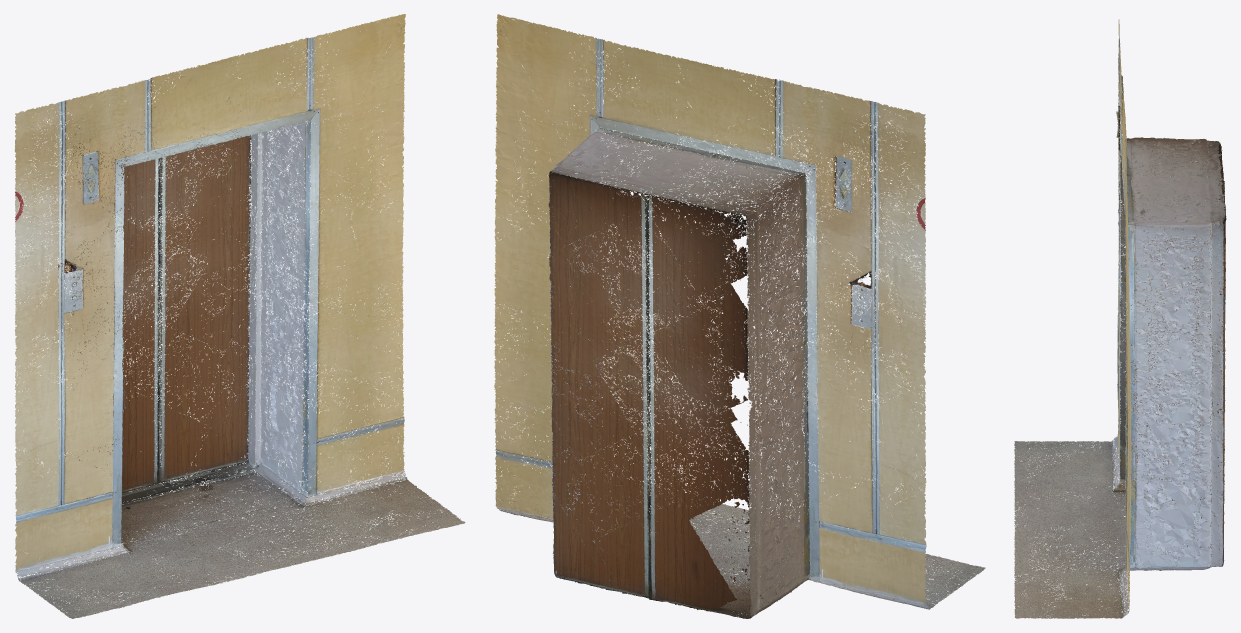
File: soviet_elevator_entrance.glb
3 views of the same model, side by side, from view 1: azimuth 30°, elevation 25°; view 2: azimuth 150°, elevation 25°; view 3: azimuth 270°, elevation 25° (orthographic). The views are drawn at different scales.
Parts seen in each view (by area): view 1: default_lift_Material_u3_v1_0.001, default_lift_Material_u1_v1_0.003, default_lift_Material_u1_v2_0, default_lift_Material_u3_v1_0, default_lift_Material_u2_v1_0.001, default_lift_Material_u1_v1_0, default_lift_Material_u2_v1_0.002, default_lift_Material_u1_v1_0.001, default_lift_Material_u2_v1_0, default_lift_Material_u2_v2_0.001, default_lift_Material_u2_v2_0, default_lift_Material_u1_v1_0.004 (+6 smaller); view 2: default_lift_Material_u3_v1_0.001, default_lift_Material_u3_v1_0, default_lift_Material_u2_v2_0.001, default_lift_Material_u1_v2_0, default_lift_Material_u1_v1_0.003, default_lift_Material_u2_v1_0.002, default_lift_Material_u1_v2_0.001, default_lift_Material_u1_v1_0.001, default_lift_Material_u1_v1_0.002, default_lift_Material_u2_v2_0, default_lift_Material_u2_v1_0, default_lift_Material_u1_v1_0.004 (+6 smaller); view 3: default_lift_Material_u2_v1_0.001, default_lift_Material_u1_v2_0, default_lift_Material_u2_v2_0, default_lift_Material_u2_v1_0, default_lift_Material_u3_v1_0, default_lift_Material_u1_v2_0.001, default_lift_Material_u1_v1_0, default_lift_Material_u2_v2_0.001, default_lift_Material_u2_v1_0.002, default_lift_Material_u2_v1_0.003, default_lift_Material_u3_v1_0.001, default_lift_Material_u1_v2_0.002 (+5 smaller).
Part boxes in pixels (x1,y1,x2,y2): default_lift_Material_u3_v1_0.001: (14, 75, 404, 569); default_lift_Material_u1_v1_0.003: (15, 103, 404, 593); default_lift_Material_u1_v2_0: (15, 70, 403, 479); default_lift_Material_u3_v1_0: (15, 97, 390, 556); default_lift_Material_u2_v1_0.001: (55, 119, 448, 536); default_lift_Material_u1_v1_0: (15, 103, 359, 597); default_lift_Material_u2_v1_0.002: (15, 17, 435, 614); default_lift_Material_u1_v1_0.001: (61, 41, 340, 478); default_lift_Material_u2_v1_0: (24, 91, 460, 618); default_lift_Material_u2_v2_0.001: (72, 14, 405, 586); default_lift_Material_u2_v2_0: (54, 77, 465, 585); default_lift_Material_u1_v1_0.004: (15, 55, 430, 511); default_lift_Material_u3_v1_0.001: (495, 80, 925, 618); default_lift_Material_u3_v1_0: (510, 111, 925, 615); default_lift_Material_u2_v2_0.001: (494, 14, 850, 594); default_lift_Material_u1_v2_0: (494, 72, 926, 617); default_lift_Material_u1_v1_0.003: (494, 110, 925, 607); default_lift_Material_u2_v1_0.002: (494, 18, 978, 609); default_lift_Material_u1_v2_0.001: (494, 73, 928, 617); default_lift_Material_u1_v1_0.001: (548, 44, 876, 618); default_lift_Material_u1_v1_0.002: (568, 204, 721, 527); default_lift_Material_u2_v2_0: (551, 79, 882, 576); default_lift_Material_u2_v1_0: (590, 91, 985, 605); default_lift_Material_u1_v1_0.004: (495, 57, 925, 601); default_lift_Material_u2_v1_0.001: (1040, 106, 1224, 618); default_lift_Material_u1_v2_0: (1117, 84, 1224, 466); default_lift_Material_u2_v2_0: (1014, 33, 1224, 618); default_lift_Material_u2_v1_0: (1014, 55, 1221, 618); default_lift_Material_u3_v1_0: (1109, 42, 1225, 528); default_lift_Material_u1_v2_0.001: (1014, 98, 1224, 583); default_lift_Material_u1_v1_0: (1014, 131, 1224, 578); default_lift_Material_u2_v2_0.001: (1014, 182, 1226, 549); default_lift_Material_u2_v1_0.002: (1026, 85, 1225, 618); default_lift_Material_u2_v1_0.003: (1117, 87, 1225, 547); default_lift_Material_u3_v1_0.001: (1111, 19, 1225, 586); default_lift_Material_u1_v2_0.002: (1015, 139, 1224, 582).
Size of the model in its own units: 2.22 by 2.5 by 1.12.
Materials: 5 (5 with a texture image).
